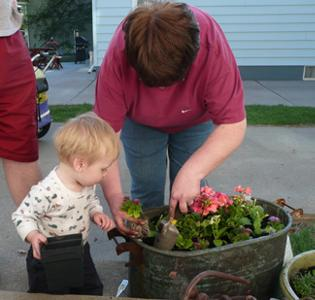person: (91, 5, 250, 239)
